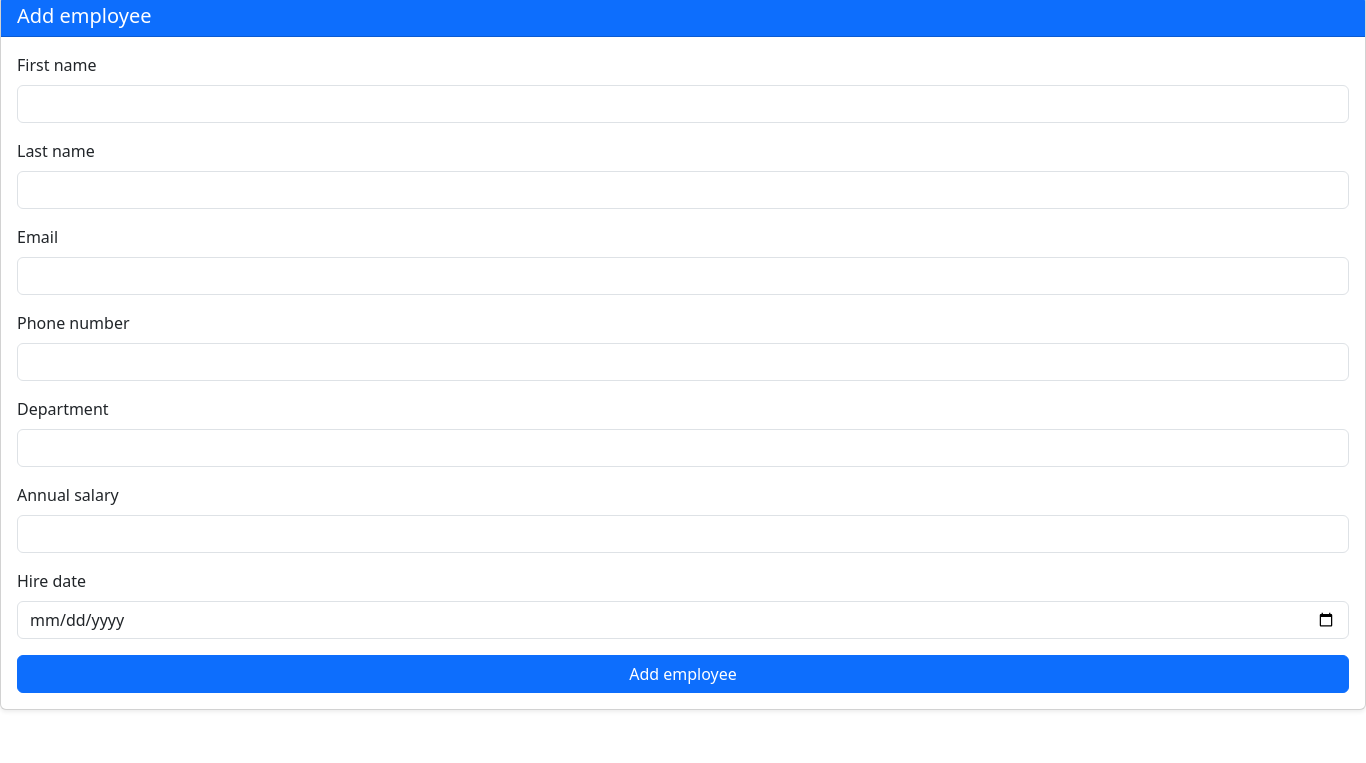
Scenario: EmployeeForm › shows field feedback when required fields are missing
Click the button "Add employee": (683, 674) [17,655,1349,693]
(page scrolled)
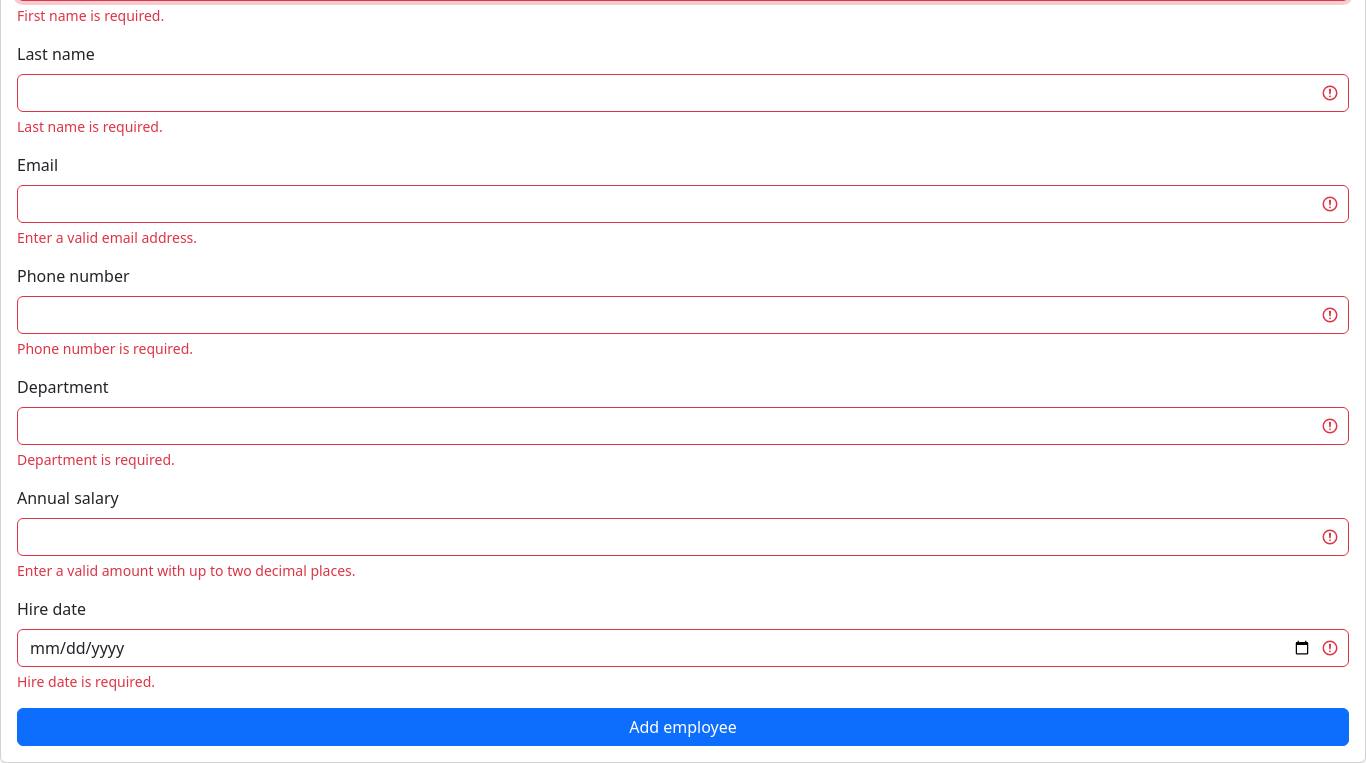
Expected: the text "First name is required." is shown, [17,6,164,25]
Expected: the text "Last name is required." is shown, [17,117,163,136]
Expected: the text "Hire date is required." is shown, [17,672,155,691]
